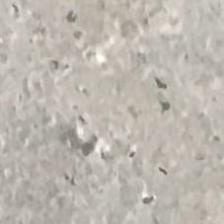Non_Crack: (44, 17, 219, 175)
